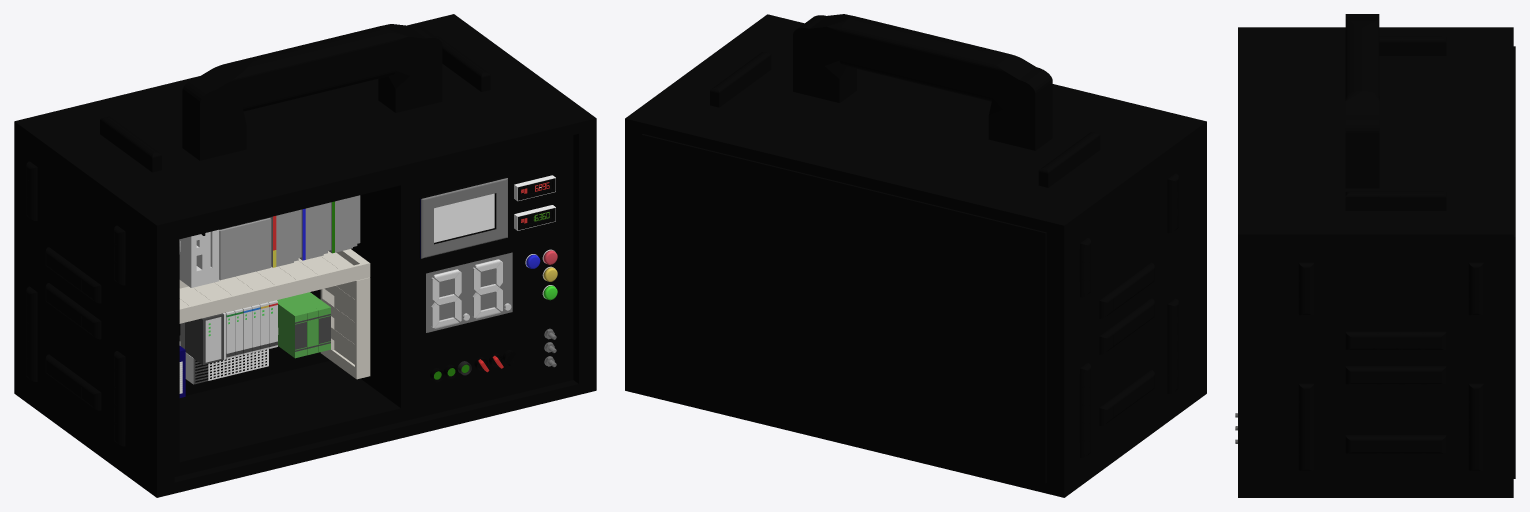
File: RozdelenyCase.fbx
3 renders of one model, left to right at view 1: azimuth 30°, elevation 25°; view 2: azimuth 150°, elevation 25°; view 3: azimuth 270°, elevation 25°, orthographic. The views are drawn at different scales.
Visible parts, largest first — view 1: Kufrik; view 2: Kufrik; view 3: Kufrik.
Part boxes in pixels (<box>): Kufrik: <box>14,14,596,497</box>; Kufrik: <box>625,14,1206,497</box>; Kufrik: <box>1238,14,1515,497</box>.
Size of the model in its own units: 66.12 by 50.9 by 36.87.
